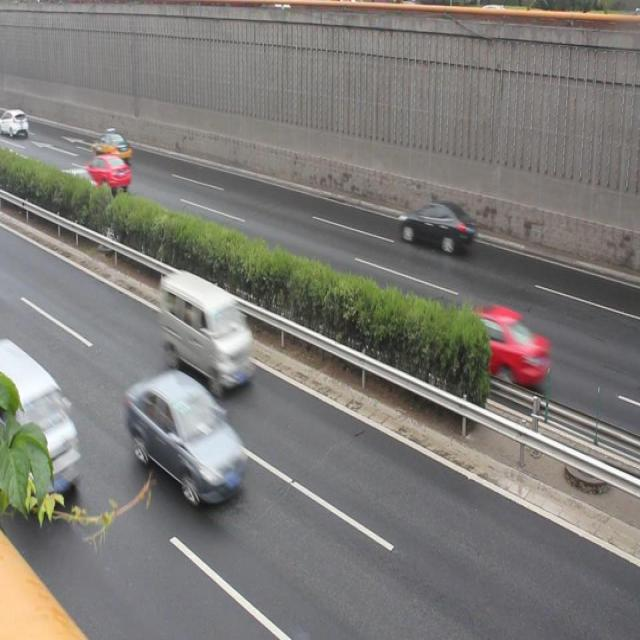car: (126, 372, 247, 501), (434, 304, 549, 386), (397, 196, 472, 254), (54, 166, 104, 210), (80, 154, 130, 189), (91, 130, 131, 162)
truck: (0, 341, 80, 514), (159, 268, 255, 390)
